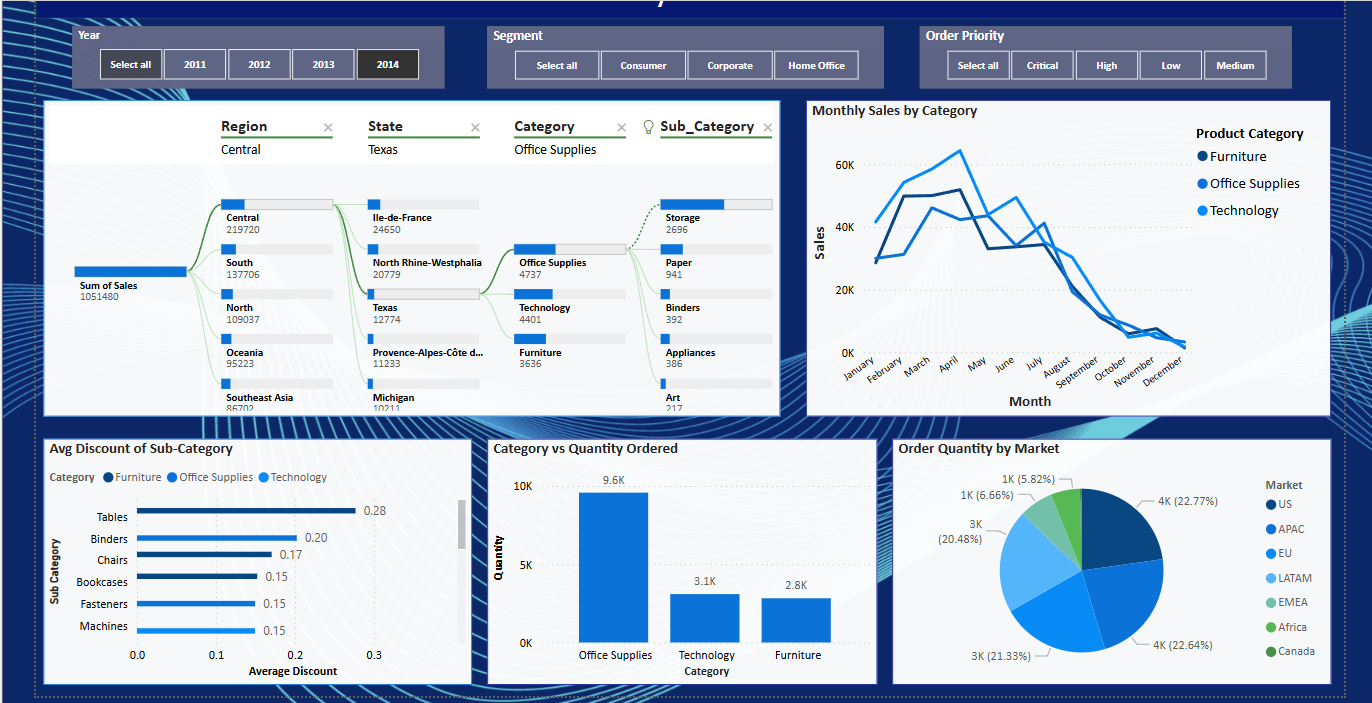

What the dashboard file says about the page in this screenshot:
{"tool":"powerbi","page":{"name":"ProductAnanlysis","canvas":[1280,720],"ordinal":1},"visuals":[{"type":"shape","box":[0,0,1280.2,57],"z":0},{"type":"textbox","title":"Product Analysis Dashboard","box":[372.1,9.3,493,38.4],"z":1000},{"type":"slicer","title":"Year","fields":{"Values":["SuperStoreOrders2.order_date.Variation.Date Hierarchy.Year"]},"box":[34.9,65.1,364,60.5],"z":2000},{"type":"slicer","title":"Segment","fields":{"Values":["SuperStoreOrders2.segment"]},"box":[441.9,65.1,388.4,60.5],"z":3000},{"type":"decompositionTreeVisual","fields":{"ExplainBy":["SuperStoreOrders2.region","SuperStoreOrders2.State","SuperStoreOrders2.category","SuperStoreOrders2.Sub_Category"],"Analyze":["Sum(SuperStoreOrders2.Sales)"]},"box":[7.9,137.5,721.1,309.9],"z":4000},{"type":"clusteredBarChart","title":"Avg Discount of Sub-Category","fields":{"Y":["Avg(SuperStoreOrders2.discount)"],"Category":["SuperStoreOrders2.Sub_Category"],"Series":["SuperStoreOrders2.category"]},"box":[7.9,468.7,419.2,241.1],"z":5000},{"type":"columnChart","title":"Category vs Quantity Ordered","fields":{"Y":["Sum(SuperStoreOrders2.quantity)"],"Category":["SuperStoreOrders2.category"]},"box":[441.7,468.7,382,241.1],"z":6000},{"type":"lineChart","title":"Monthly Sales by Category","fields":{"Y":["Sum(SuperStoreOrders2.sales)"],"Category":["SuperStoreOrders2.order_date.Variation.Date Hierarchy.Month"],"Series":["SuperStoreOrders2.category"]},"box":[752.7,137.5,513.8,309.9],"z":7000},{"type":"pieChart","title":"Order Quantity by Market","fields":{"Category":["SuperStoreOrders2.Market"],"Y":["Sum(SuperStoreOrders2.quantity)"]},"box":[837.2,468.7,429.3,241.1],"z":8000},{"type":"slicer","title":"Order Priority","fields":{"Values":["SuperStoreOrders2.order_priority"]},"box":[865.1,65.1,364,60.5],"z":9000}]}

Visuals, with their boxes on the page's 1280x720 design canvas (x1, y1, x2, y2). These are canvas units, not pixel positions in the 1372x703 screenshot, which may show the page scaled, cropped or inside an application window:
shape: x1=0, y1=0, x2=1280, y2=57
"Product Analysis Dashboard" textbox: x1=372, y1=9, x2=865, y2=48
"Year" slicer: x1=35, y1=65, x2=399, y2=126
"Segment" slicer: x1=442, y1=65, x2=830, y2=126
decompositionTreeVisual - SuperStoreOrders2.region x SuperStoreOrders2.State: x1=8, y1=138, x2=729, y2=447
"Avg Discount of Sub-Category" clusteredBarChart: x1=8, y1=469, x2=427, y2=710
"Category vs Quantity Ordered" columnChart: x1=442, y1=469, x2=824, y2=710
"Monthly Sales by Category" lineChart: x1=753, y1=138, x2=1266, y2=447
"Order Quantity by Market" pieChart: x1=837, y1=469, x2=1266, y2=710
"Order Priority" slicer: x1=865, y1=65, x2=1229, y2=126
